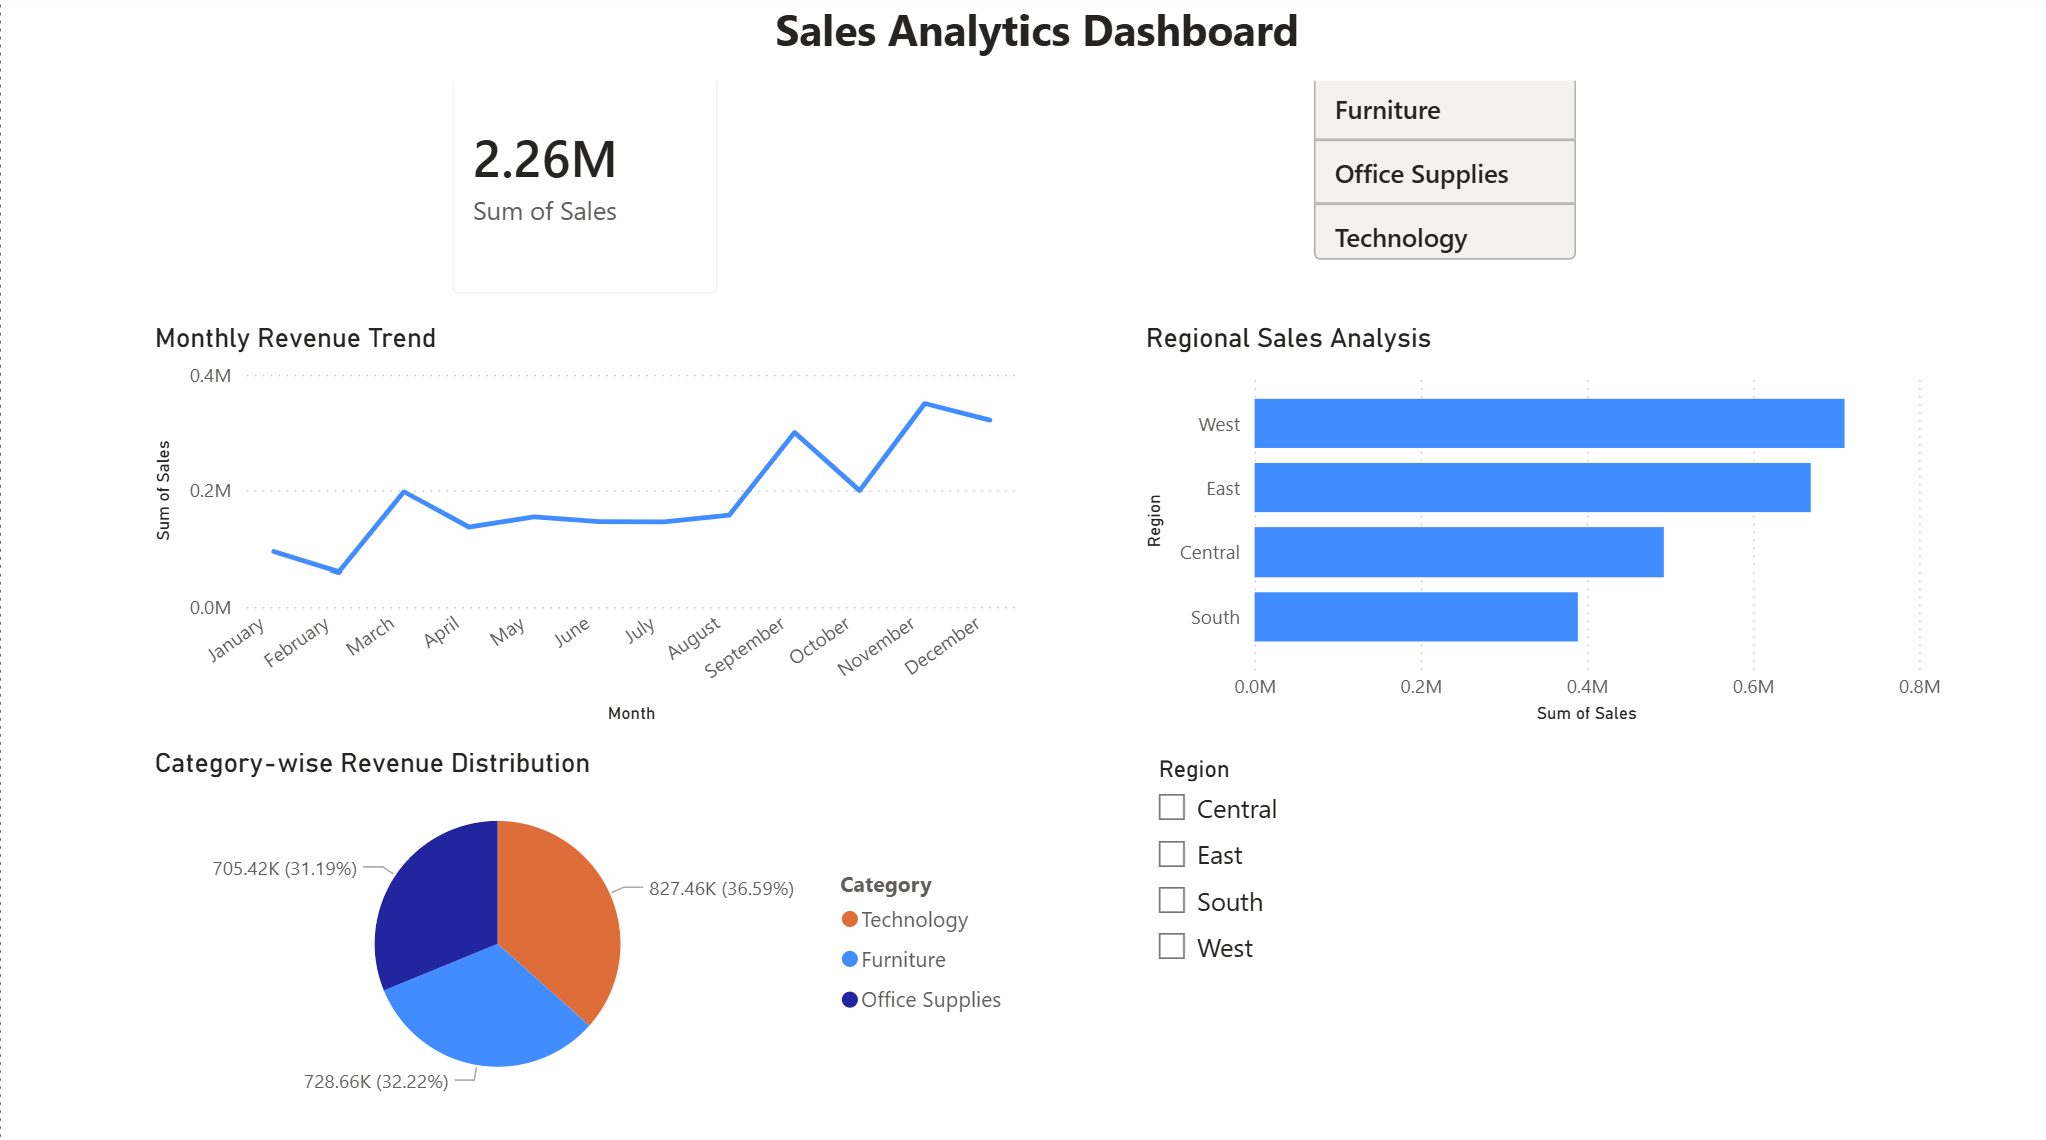

What the dashboard file says about the page in this screenshot:
{"tool":"powerbi","page":{"name":"Page 1","canvas":[1280,720],"ordinal":0},"visuals":[{"type":"pieChart","title":"Category-wise Revenue Distribution","fields":{"Category":["cleaned_sales.Category"],"Y":["Sum(cleaned_sales.Sales)"]},"box":[91,471.7,549,227.5],"z":1},{"type":"lineChart","title":"Monthly Revenue Trend","fields":{"Category":["cleaned_sales.Month"],"Y":["Sum(cleaned_sales.Sales)"]},"box":[91,206.3,549,254.8],"z":2},{"type":"barChart","title":"Regional Sales Analysis","fields":{"Category":["cleaned_sales.Region"],"Y":["Sum(cleaned_sales.Sales)"]},"box":[711.3,206.3,508.1,254.8],"z":3},{"type":"cardVisual","fields":{"Data":["Sum(cleaned_sales.Sales)"]},"box":[265.4,19.7,200.2,186.5],"z":4},{"type":"slicer","fields":{"Values":["cleaned_sales.Region"]},"box":[711.3,471.7,508.1,227.5],"z":5},{"type":"cardVisual","fields":{"Rows":["cleaned_sales.Category"]},"box":[816.4,27.5,174.1,165.3],"z":6},{"type":"textbox","box":[91.4,0,1055.7,55.7],"z":7}]}

Visuals, with their boxes in screenshot pixels (x1, y1, x2, y2), scaled from the page's 1280x720 canvas onto the 2046x1140 screenshot:
"Category-wise Revenue Distribution" pieChart: {"x1": 145, "y1": 747, "x2": 1023, "y2": 1107}
"Monthly Revenue Trend" lineChart: {"x1": 145, "y1": 327, "x2": 1023, "y2": 730}
"Regional Sales Analysis" barChart: {"x1": 1137, "y1": 327, "x2": 1949, "y2": 730}
cardVisual - Sum(cleaned_sales.Sales): {"x1": 424, "y1": 31, "x2": 744, "y2": 326}
slicer - cleaned_sales.Region: {"x1": 1137, "y1": 747, "x2": 1949, "y2": 1107}
cardVisual - cleaned_sales.Category: {"x1": 1305, "y1": 44, "x2": 1583, "y2": 305}
textbox: {"x1": 146, "y1": 0, "x2": 1834, "y2": 88}
